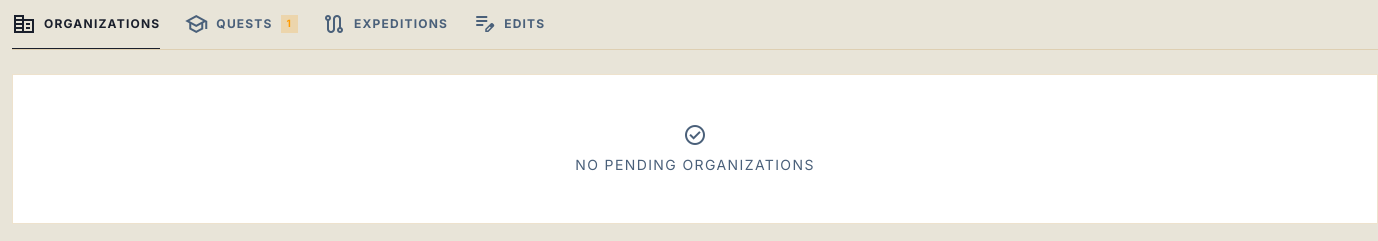
it: ValidationPanel › renders pending quests
The image size is (1378, 241).
Click the button "Quests 1".
click(241, 31)  # box left=184, top=12, right=298, bottom=50
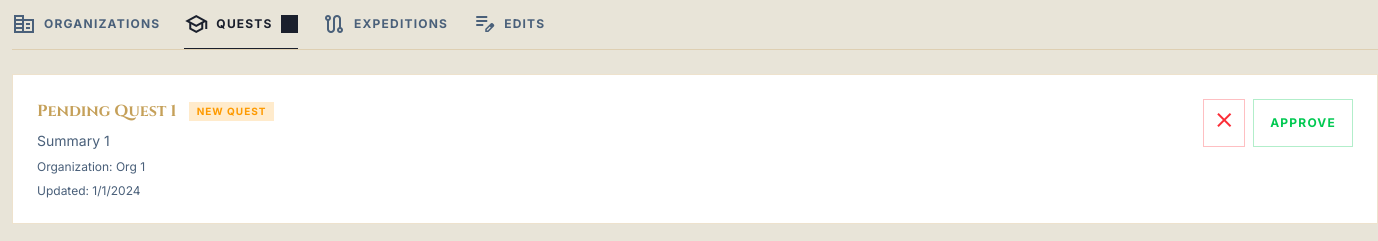
Result: the heading "Pending Quest 1" is shown at left=37, top=99, right=177, bottom=123
Result: the text "Organization: Org 1" is shown at left=37, top=159, right=145, bottom=174
